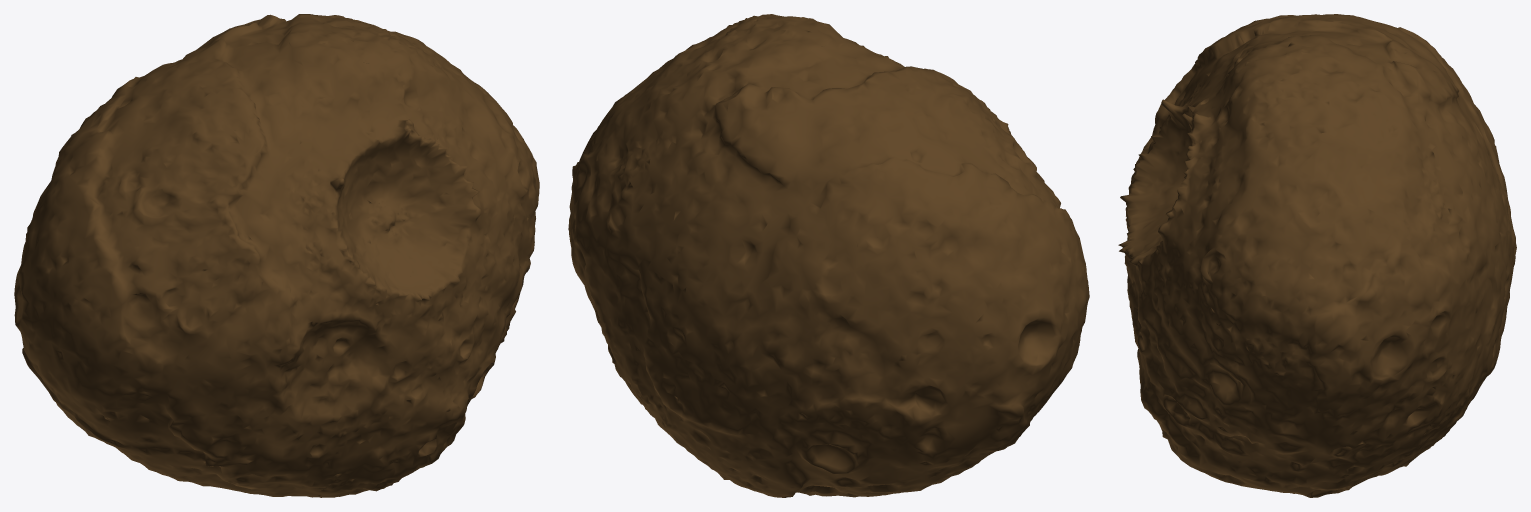
The model's file is psyche_asteroid (1).fbx.
3 renders of one model, left to right at view 1: azimuth 30°, elevation 25°; view 2: azimuth 150°, elevation 25°; view 3: azimuth 270°, elevation 25°, orthographic.
Visible parts, largest first — view 1: Asteroid_Dirt; view 2: Asteroid_Dirt; view 3: Asteroid_Dirt.
Boxes of the visible parts, x1=… form: Asteroid_Dirt: x1=14, y1=14, x2=539, y2=497; Asteroid_Dirt: x1=568, y1=14, x2=1089, y2=497; Asteroid_Dirt: x1=1118, y1=14, x2=1516, y2=497.
Size of the model in its own units: 300 by 258 by 213.
